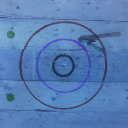Axe Tip: (85, 39, 96, 42)
